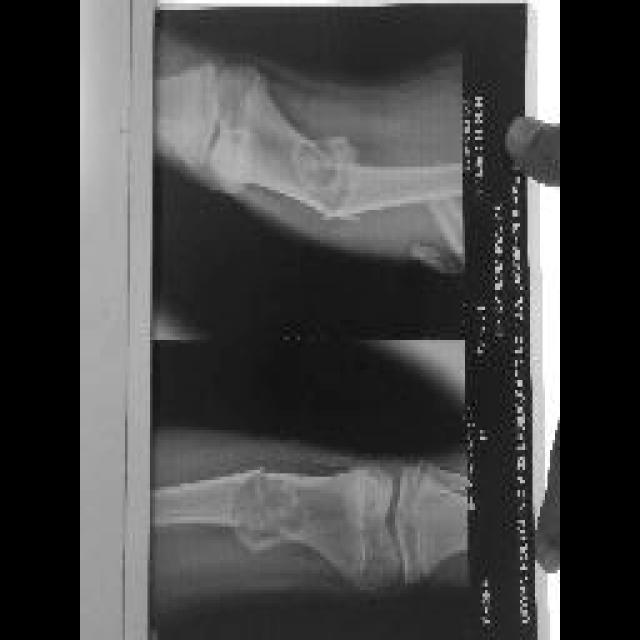bone-cancer: (280, 135, 356, 220), (234, 470, 308, 551)
